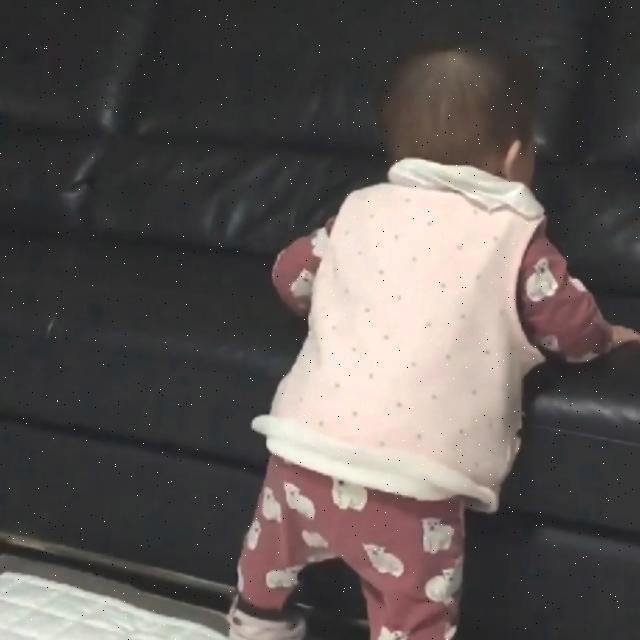child: (226, 42, 640, 640)
